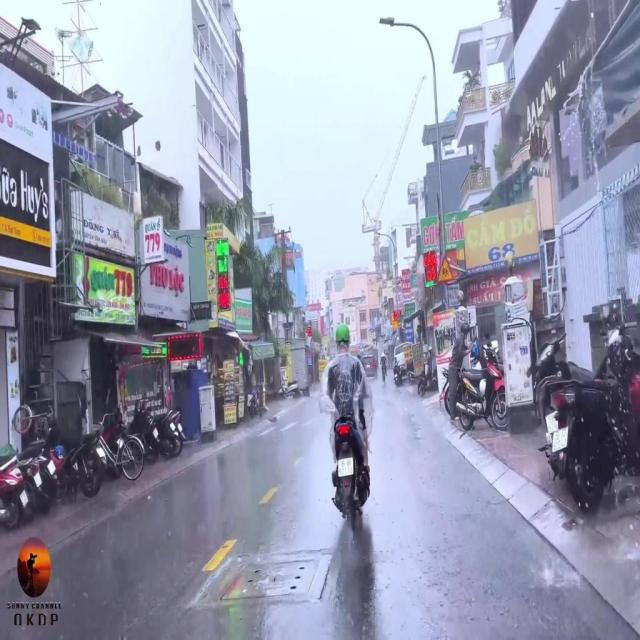chu_y_tre_em: (437, 254, 455, 285)
